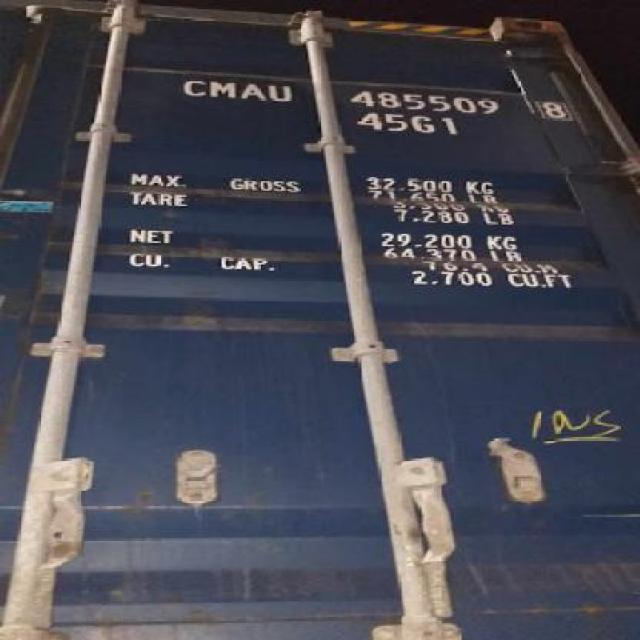ISO: (356, 111, 464, 140)
container_number: (182, 74, 569, 118)
